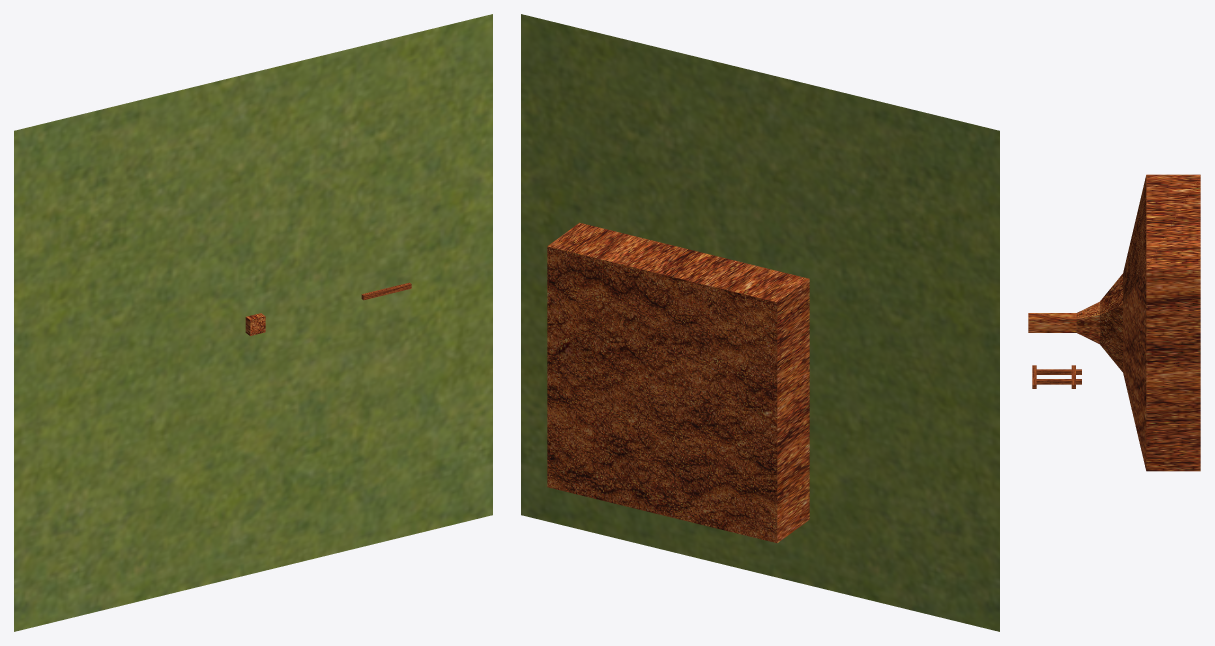
The model's file is terrain2.dae.
3 views of the same model, side by side, from view 1: azimuth 30°, elevation 25°; view 2: azimuth 150°, elevation 25°; view 3: azimuth 270°, elevation 25° (orthographic). The views are drawn at different scales.
Visible parts, largest first — view 1: Plane; view 2: Plane, Cube; view 3: Cube.
Part boxes in pixels (x1,y1,x2,y2): Plane: (14, 14, 492, 631); Plane: (521, 14, 999, 631); Cube: (547, 222, 809, 543); Cube: (1028, 174, 1200, 471).
Bounding box in the file's own units: 20 × 7.42 × 20.
